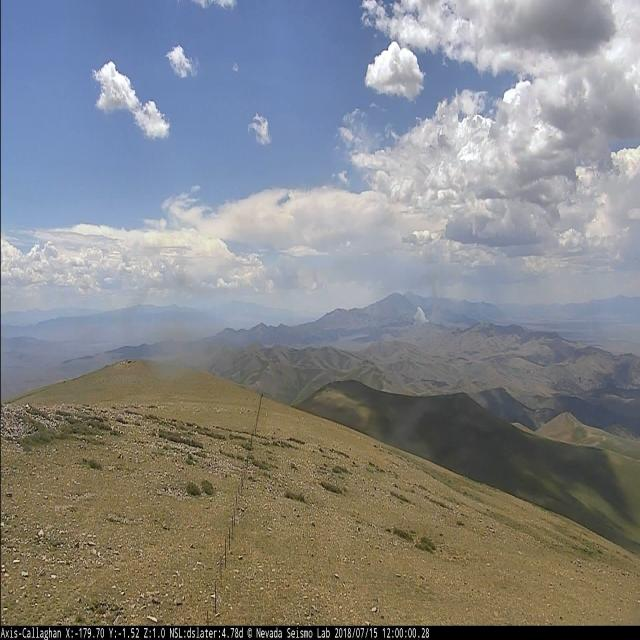smoke: (411, 301, 429, 327)
